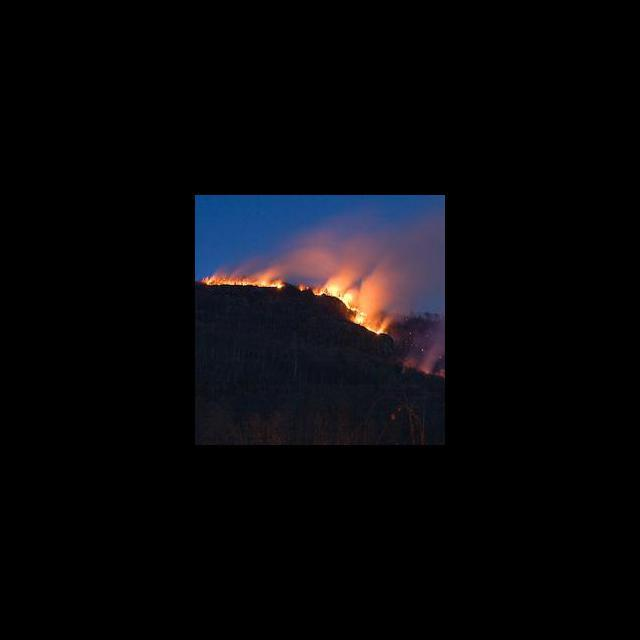Fire: (314, 280, 389, 334), (202, 272, 284, 288), (298, 281, 305, 292)
